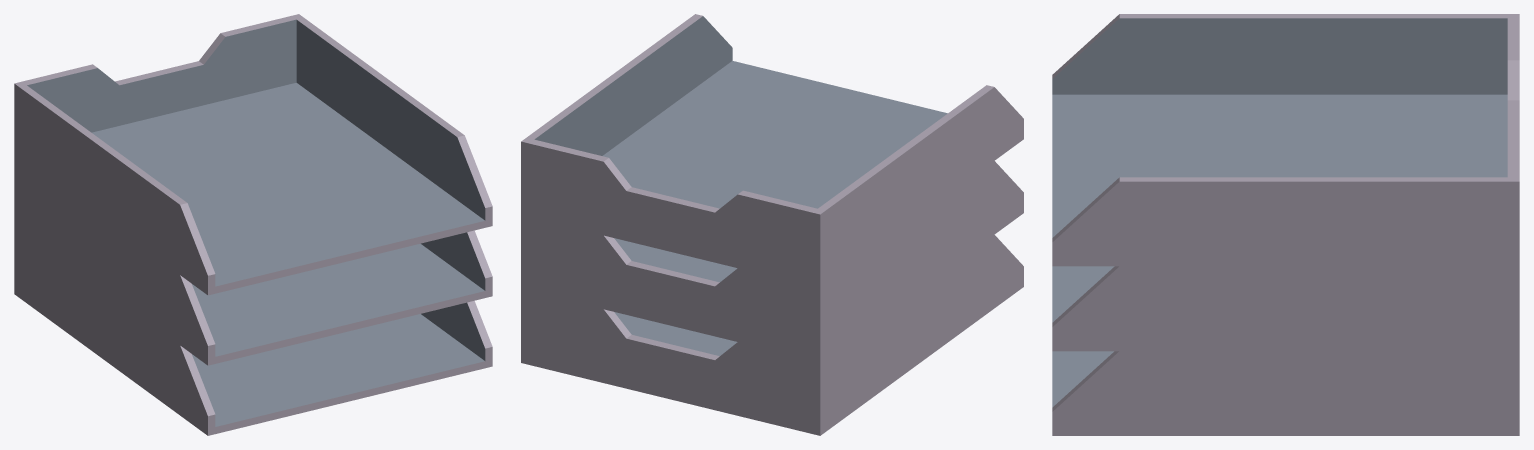
File: Document_Tray_Grey.fbx
3 renders of one model, left to right at view 1: azimuth 30°, elevation 25°; view 2: azimuth 150°, elevation 25°; view 3: azimuth 270°, elevation 25°, orthographic. The views are drawn at different scales.
Parts seen in each view (by area): view 1: File_Paper_TrayPack.001; view 2: File_Paper_TrayPack.001; view 3: File_Paper_TrayPack.001.
Boxes of the visible parts, x1,y1,x2,y2 form: File_Paper_TrayPack.001: (14, 14, 492, 435); File_Paper_TrayPack.001: (521, 14, 1023, 435); File_Paper_TrayPack.001: (1052, 14, 1519, 435).
Bounding box in the file's own units: 28 × 19.8 × 33.
